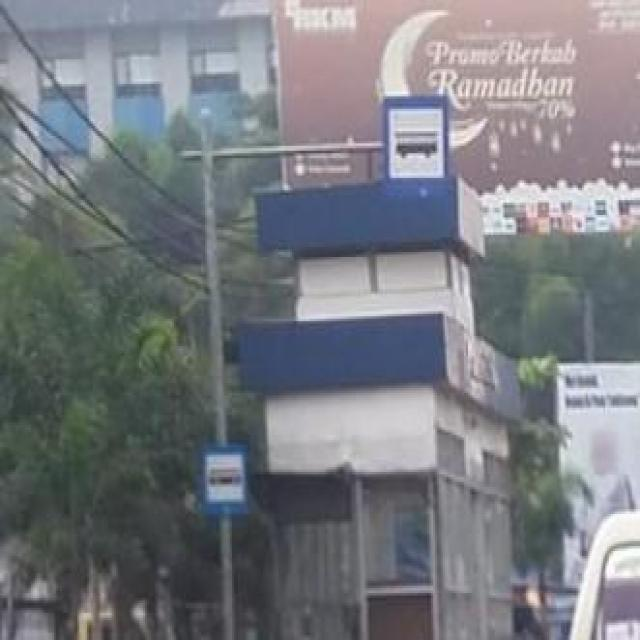traffic sign: (383, 94, 450, 198), (199, 442, 250, 514)
